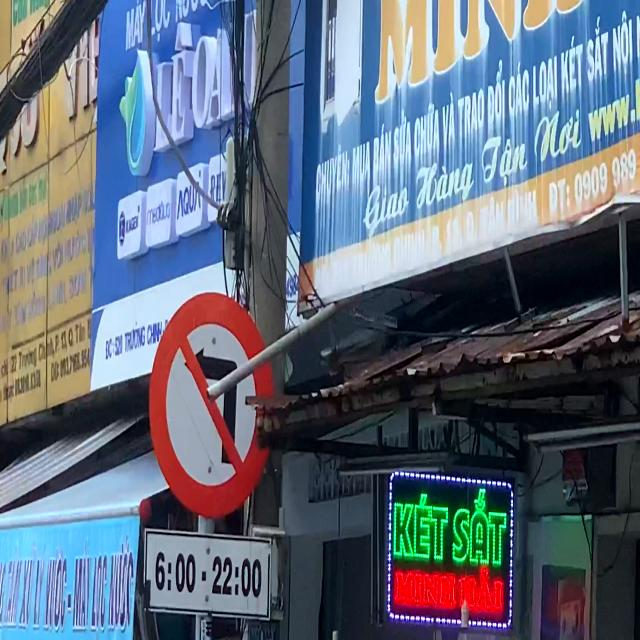P.123a: (148, 291, 275, 519)
